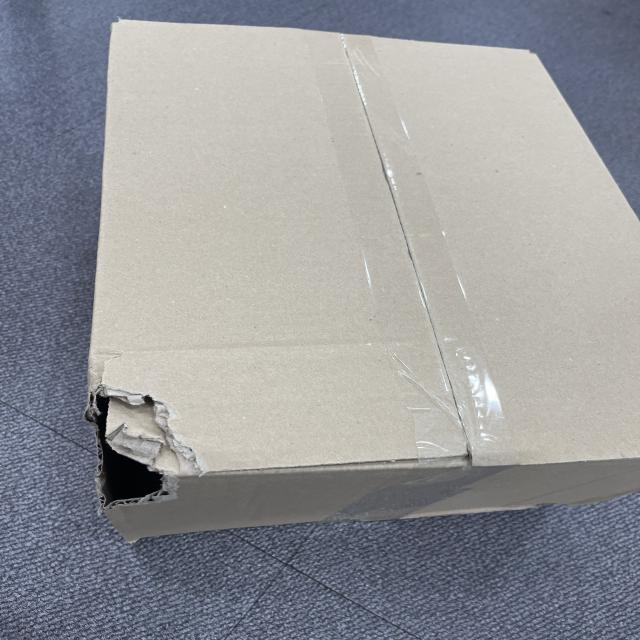hole: (88, 383, 192, 504)
